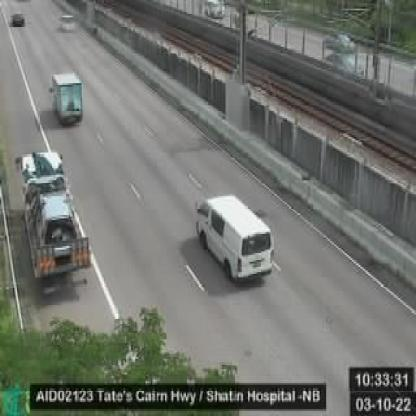Car: (196, 194, 272, 279), (9, 9, 25, 24)
Truck: (15, 151, 90, 293), (50, 69, 83, 123)
